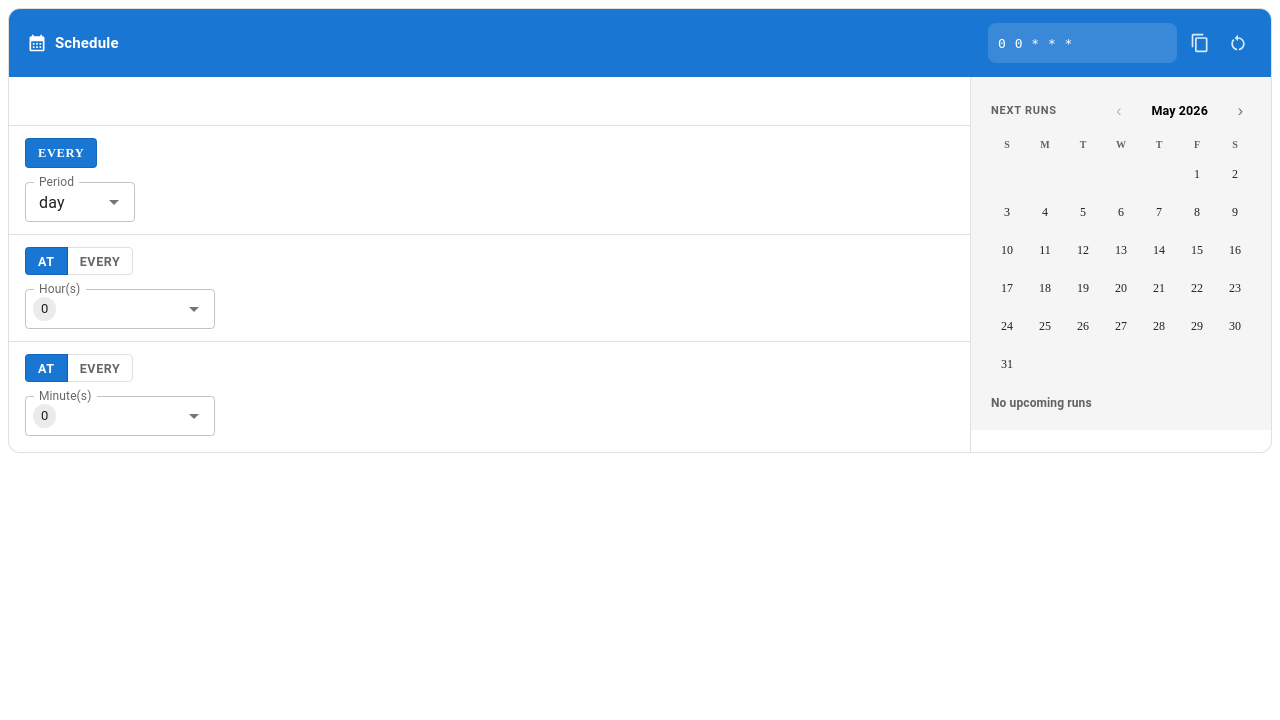
Test case: Scheduler (browser) › closes a single-value autocomplete after selecting an option (#16)
Step 1. Click the dropdown labelled "Period" → (64, 202), box [31,188,96,216]
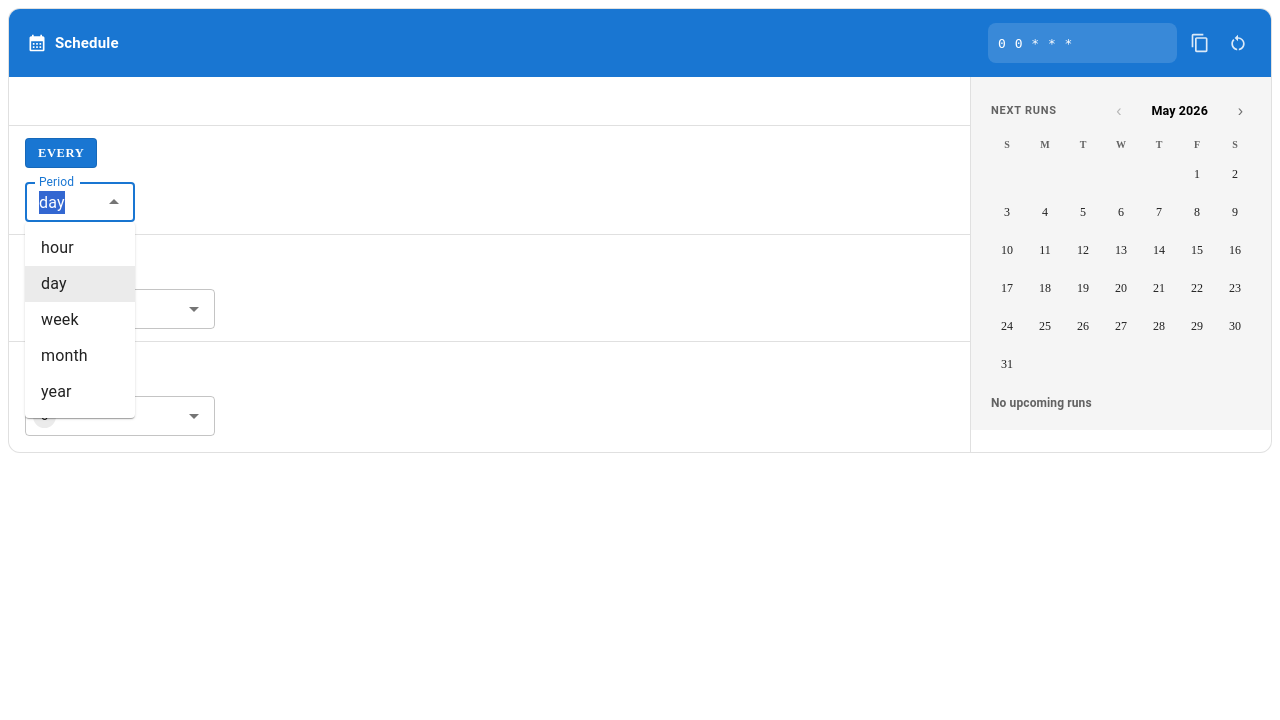
Step 2. Click the option "week" → (60, 320), box [41,310,79,329]
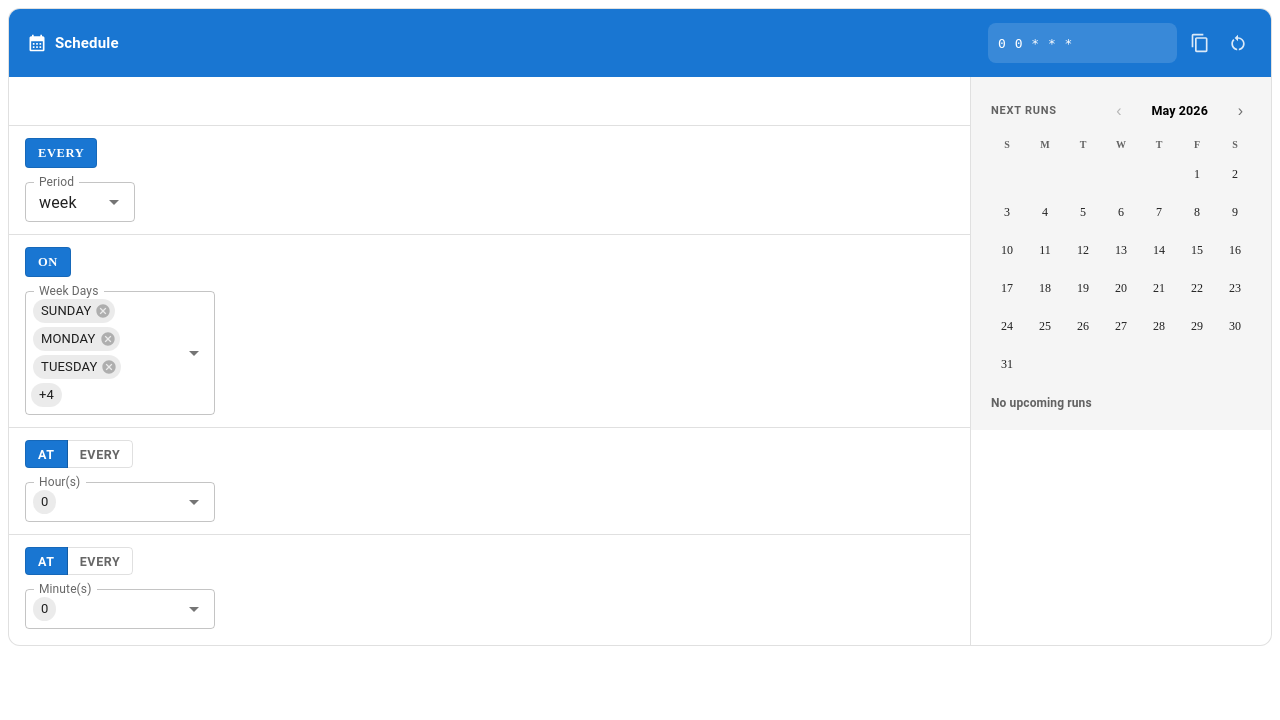
Result: the list is gone
